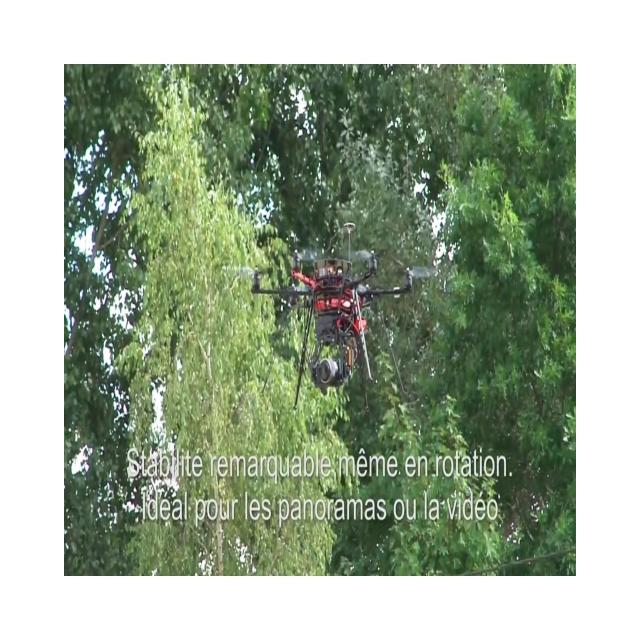drone: (224, 220, 434, 412)
